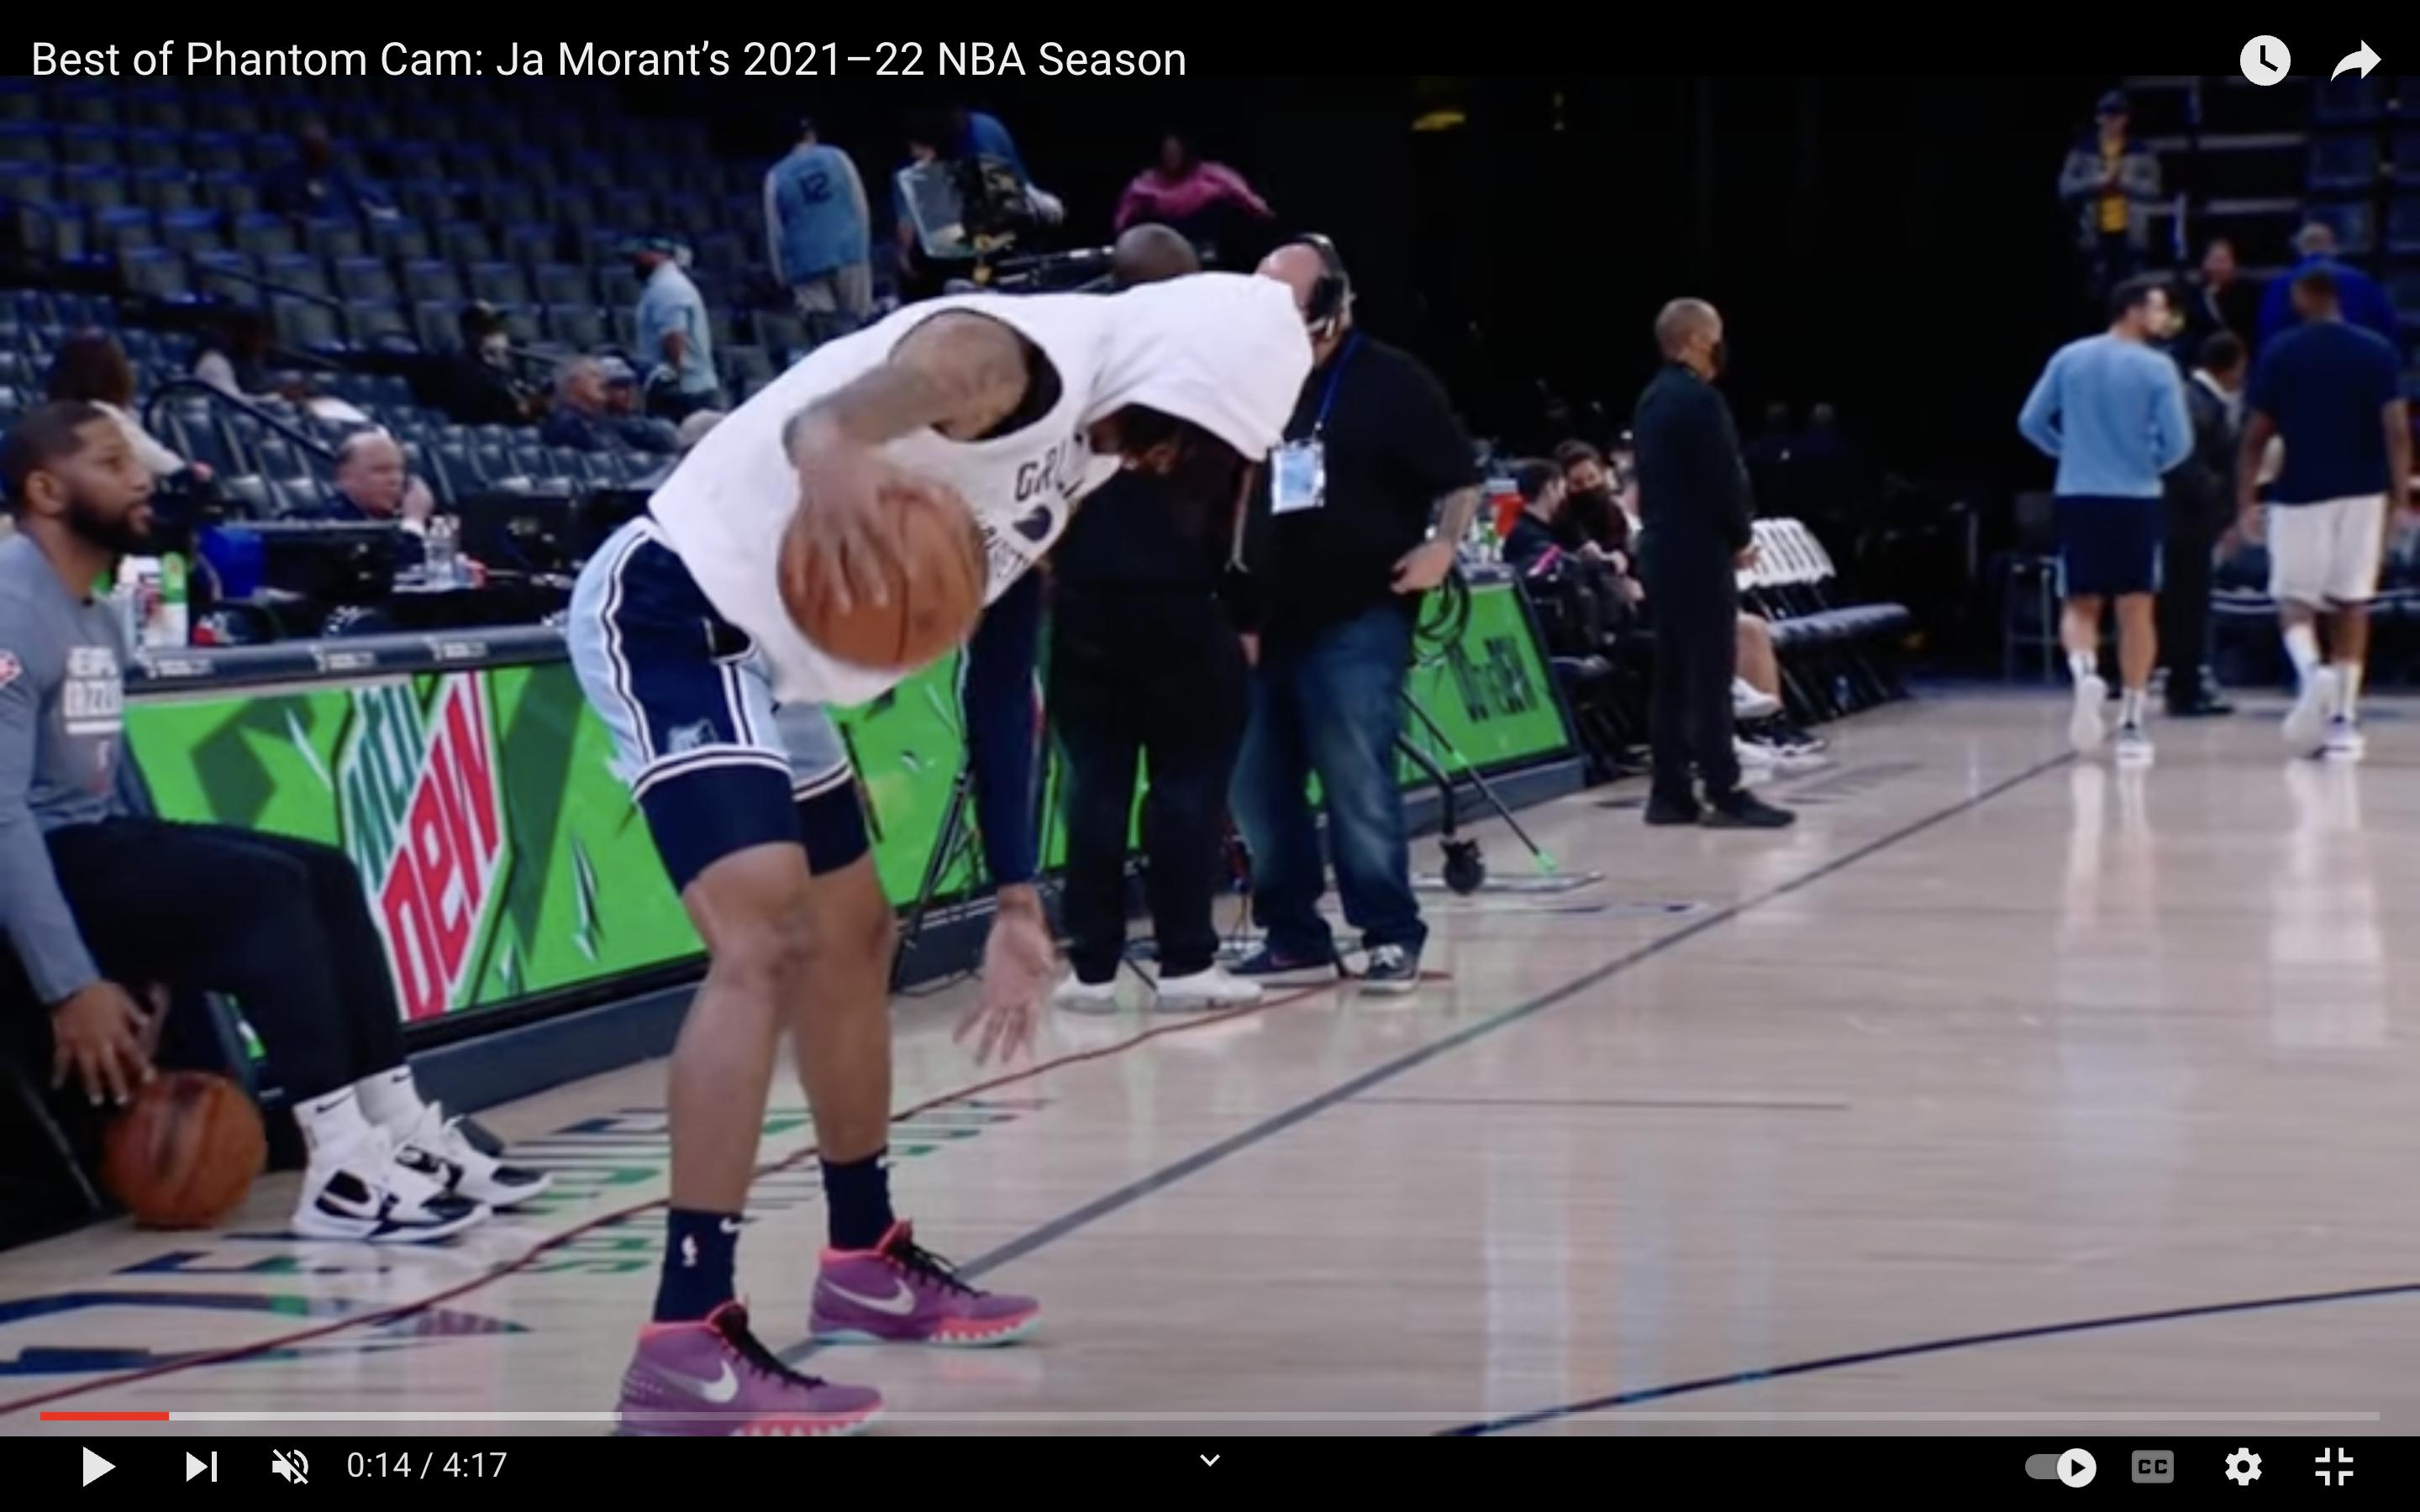Ball: (777, 481, 989, 674), (94, 1068, 269, 1236)
Person: (571, 276, 1304, 1427), (2, 376, 550, 1311)
